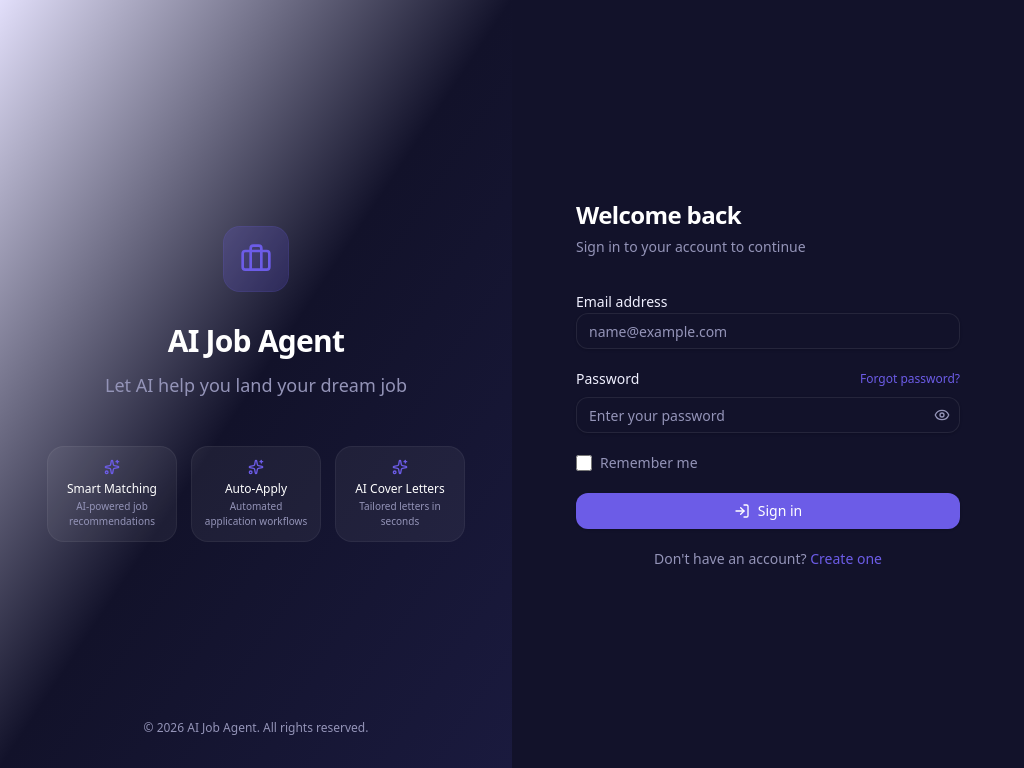
Test: LoginPage › shows validation errors for empty fields
This screenshot has width=1024, height=768.
Click the button "Sign in" at (768,511), box 576,493 -> 960,529
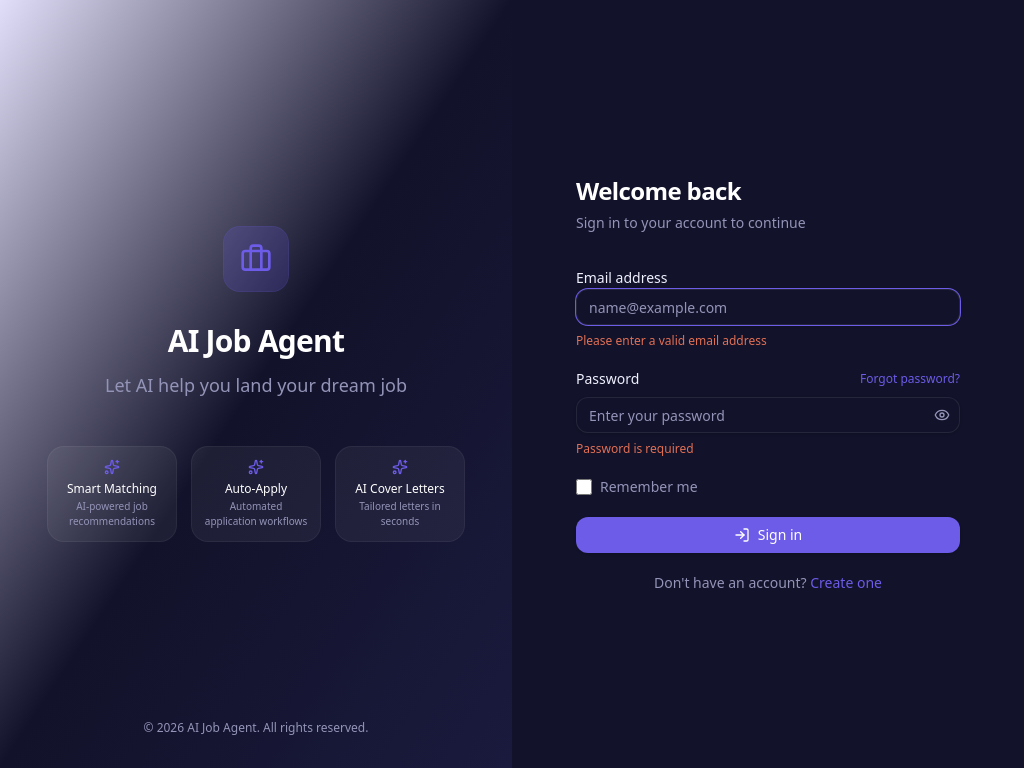
Result: the text "Please enter a valid email address" is shown at 576,332 -> 767,349
